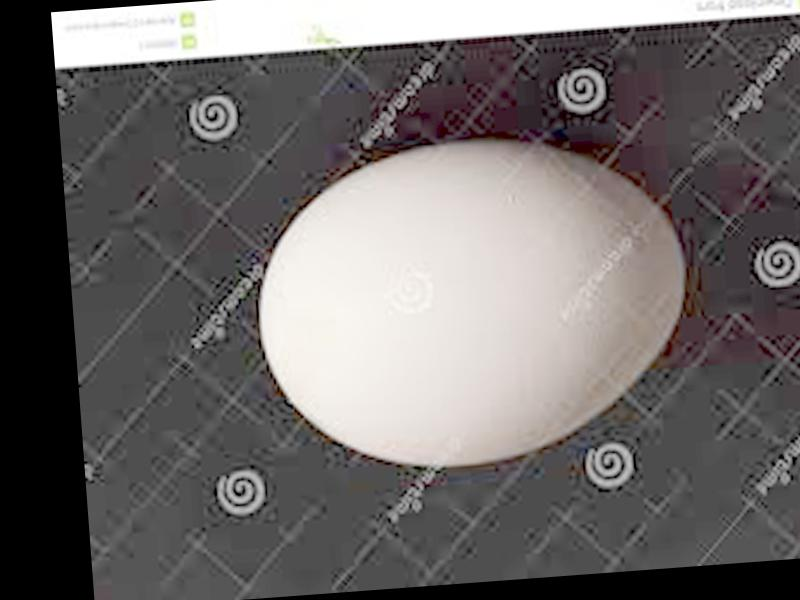Eggs: (245, 127, 698, 478)
